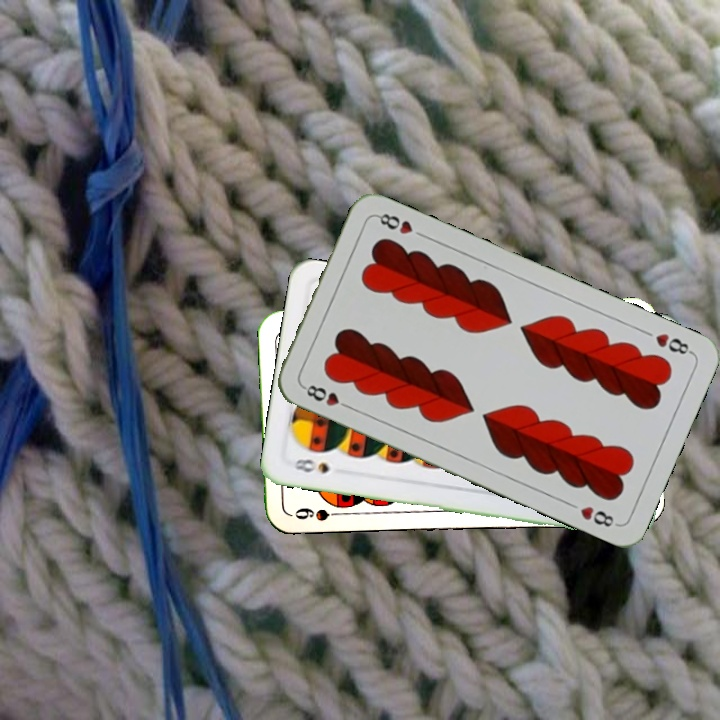H8: (299, 381, 355, 412), (651, 329, 695, 358)
S8: (288, 454, 332, 476)
S9: (291, 503, 348, 524)
